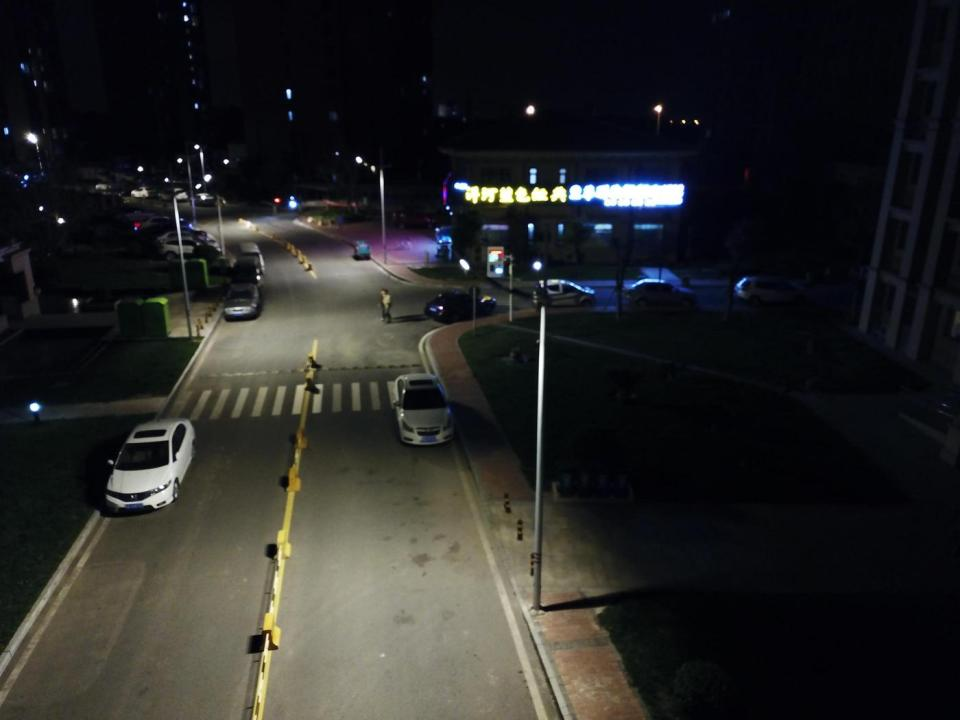car: (104, 416, 198, 515), (390, 372, 455, 446), (424, 288, 496, 322), (734, 274, 808, 305), (625, 278, 698, 307), (533, 278, 597, 308), (156, 235, 221, 260), (222, 282, 260, 319), (156, 229, 216, 248), (132, 217, 182, 231), (158, 187, 188, 202), (131, 185, 158, 198), (190, 192, 215, 206), (126, 208, 156, 219), (94, 176, 114, 189)
van: (238, 241, 265, 275), (234, 256, 262, 288)
